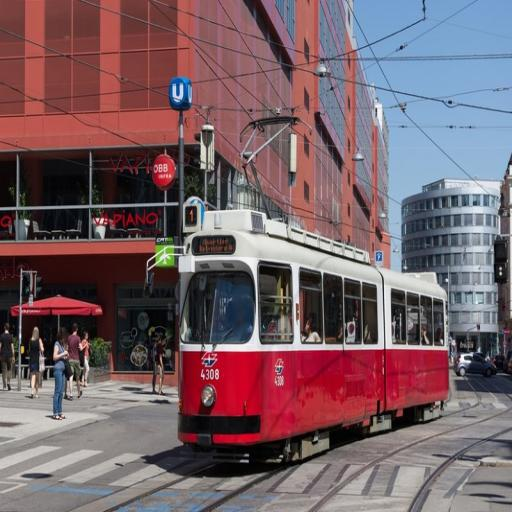E2-Tram: (180, 196, 452, 462)
